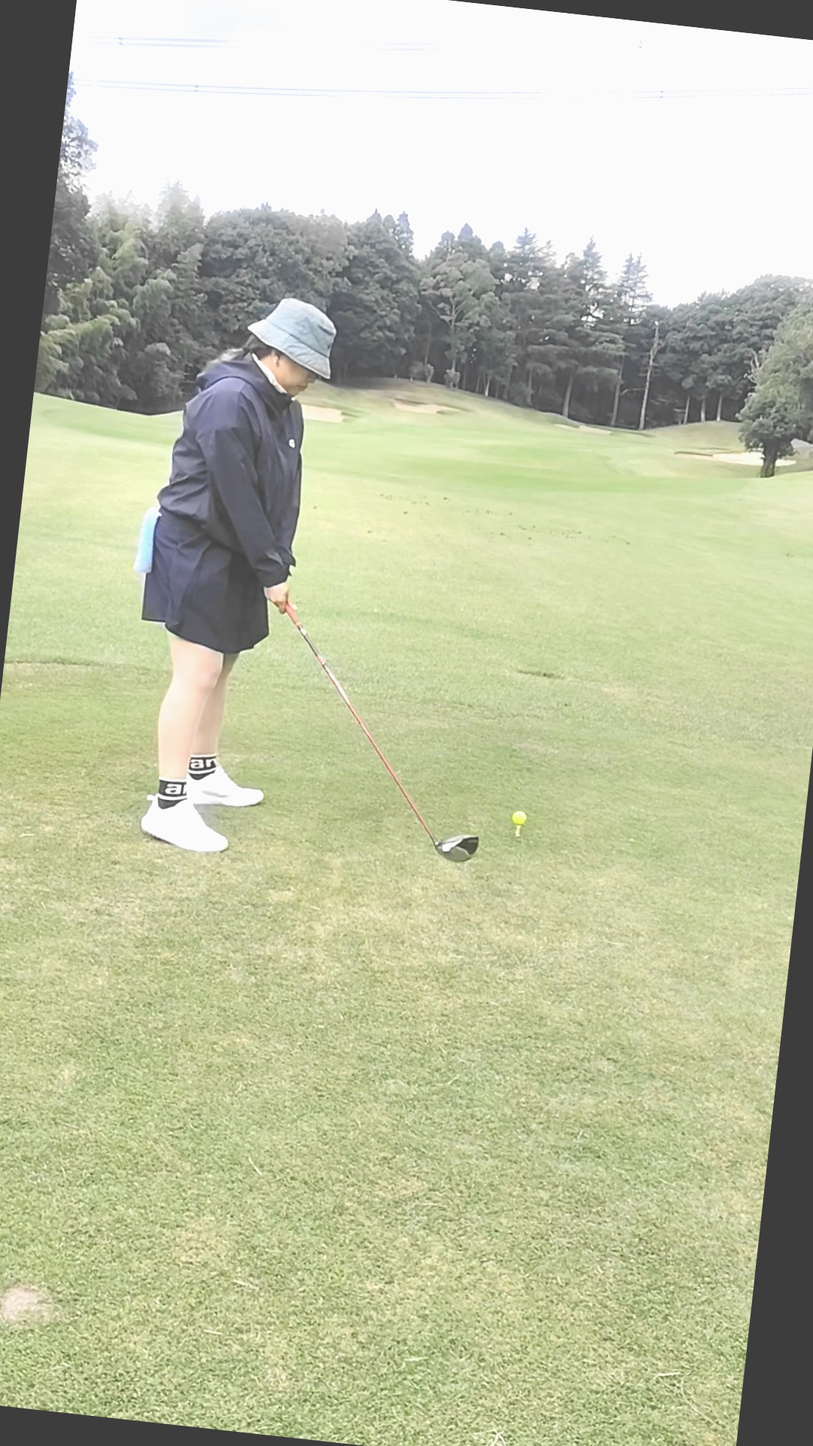clubhead: (336, 758, 591, 944)
